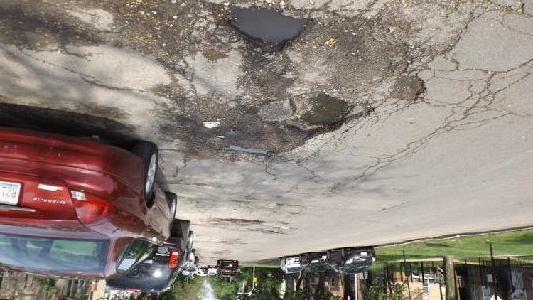pothole: (276, 89, 375, 141), (220, 5, 316, 52), (386, 75, 428, 103), (222, 217, 264, 226), (200, 117, 224, 130)
